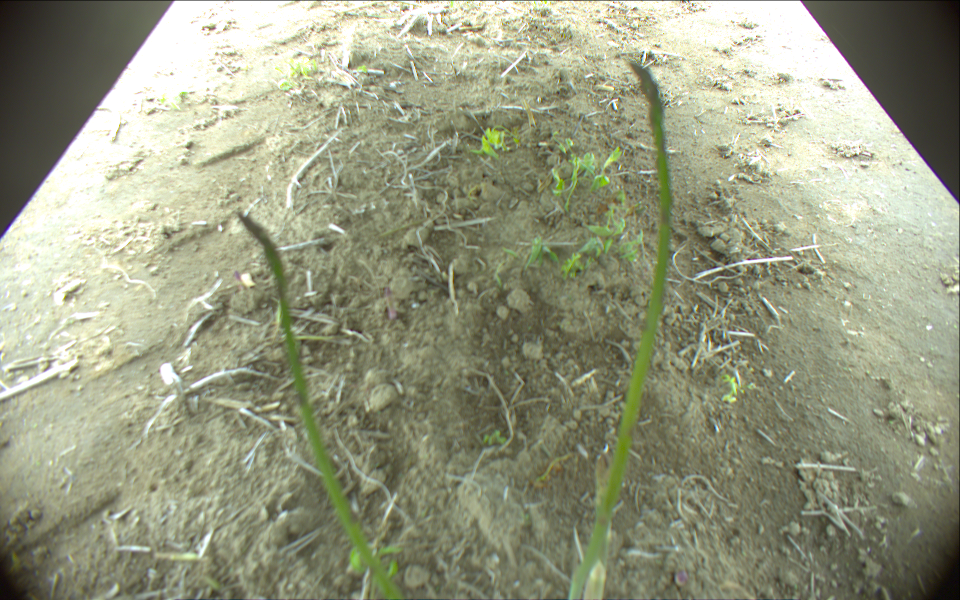aspa: (235, 211, 410, 600), (564, 62, 673, 600), (582, 560, 606, 600), (381, 286, 399, 319)
